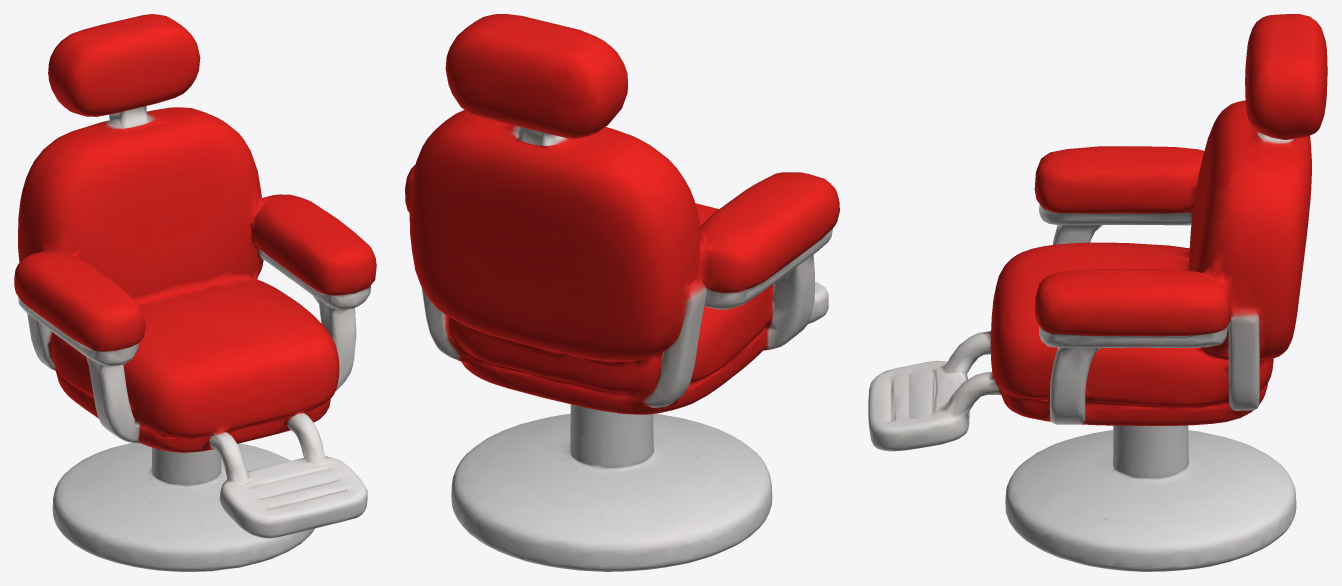
File: BarberChair.fbx
The picture shows the model from 3 angles, left to right: view 1: azimuth 30°, elevation 25°; view 2: azimuth 150°, elevation 25°; view 3: azimuth 270°, elevation 25°; orthographic projection. The views are drawn at different scales.
Visible parts, largest first — view 1: BarberChair; view 2: BarberChair; view 3: BarberChair.
Boxes of the visible parts, box(x1,y1,x2,y2) form: BarberChair: box(14, 14, 376, 571); BarberChair: box(405, 14, 839, 571); BarberChair: box(868, 14, 1327, 571).
Bounding box in the file's own units: 0.7015 × 1 × 0.8668.
1 material, 1 textured.
